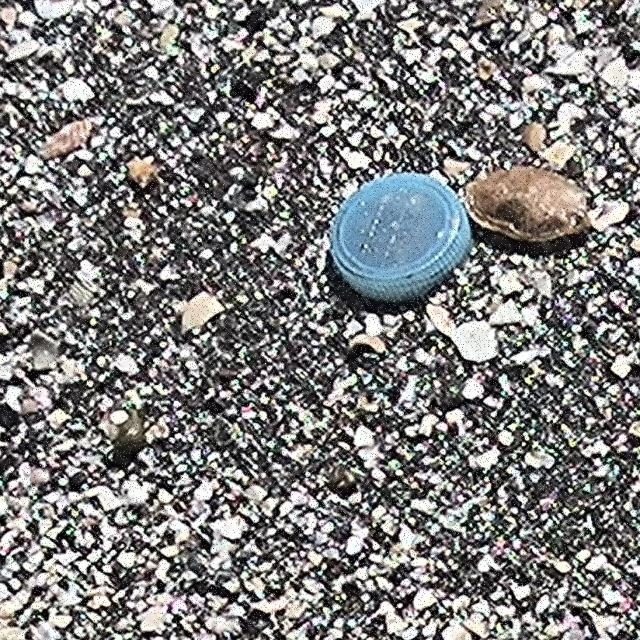plastic_waste: (328, 170, 475, 306)
